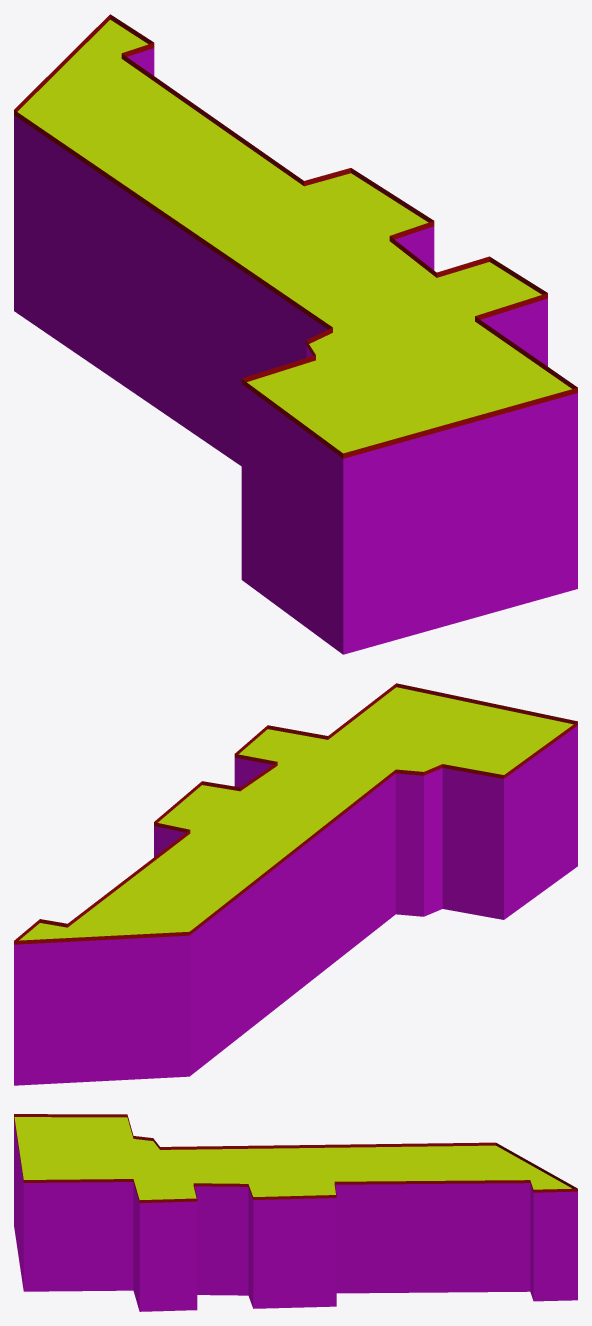
Rendered from bgj_9.glb.
3 views of the same model, one above another, from view 1: azimuth 30°, elevation 25°; view 2: azimuth 150°, elevation 25°; view 3: azimuth 270°, elevation 25° (orthographic). The views are drawn at different scales.
Visible parts, largest first — view 1: bgj_9; view 2: bgj_9; view 3: bgj_9.
Part boxes in pixels (x1=…): bgj_9: x1=14, y1=14, x2=577, y2=654; bgj_9: x1=14, y1=683, x2=577, y2=1085; bgj_9: x1=14, y1=1114, x2=577, y2=1311.
Bounding box in the file's own units: 21.57 × 13.05 × 59.74.
